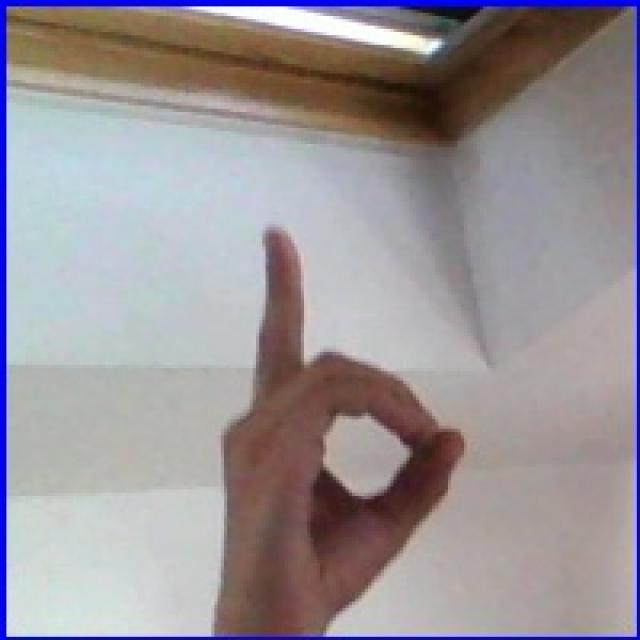Letra D: (186, 206, 486, 624)
